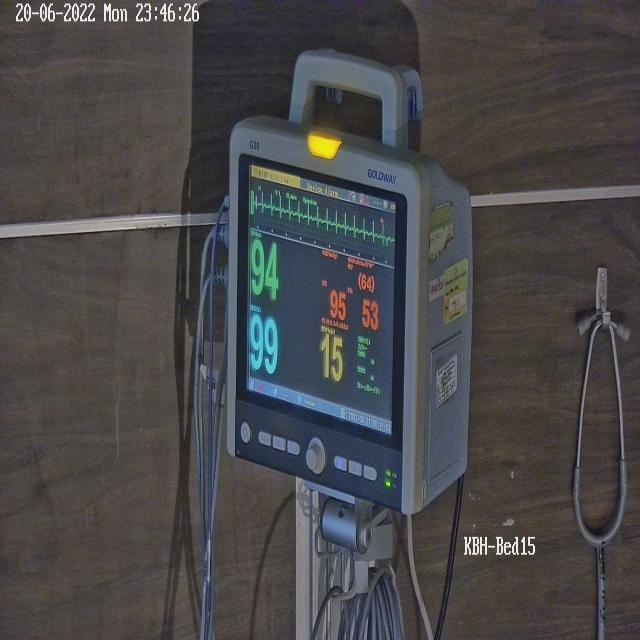Monitor: (183, 16, 482, 640)
